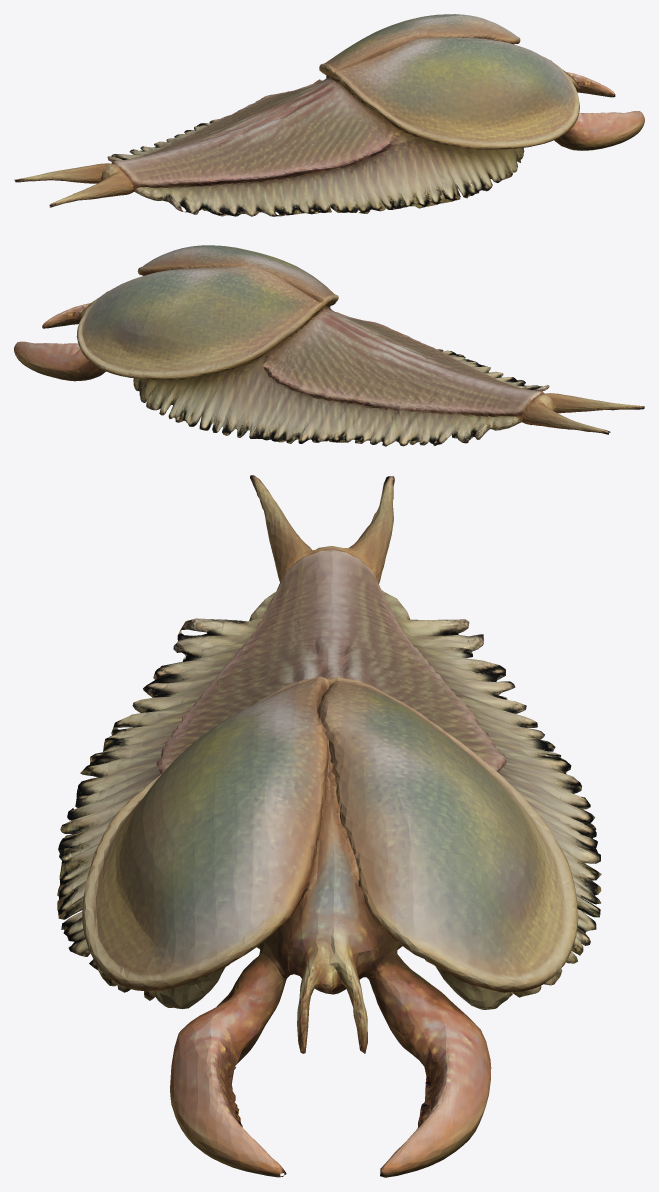
3 views of the same model, one above another, from view 1: azimuth 30°, elevation 25°; view 2: azimuth 150°, elevation 25°; view 3: azimuth 270°, elevation 25° (orthographic). The views are drawn at different scales.
Parts seen in each view (by area): view 1: world; view 2: world; view 3: world.
Part boxes in pixels (x1,y1,x2,y2): world: [14, 14, 644, 216]; world: [14, 245, 644, 446]; world: [57, 475, 601, 1177].
Bounding box in the file's own units: 1 × 0.2029 × 0.3963.
Materials: 1 (1 with a texture image).
